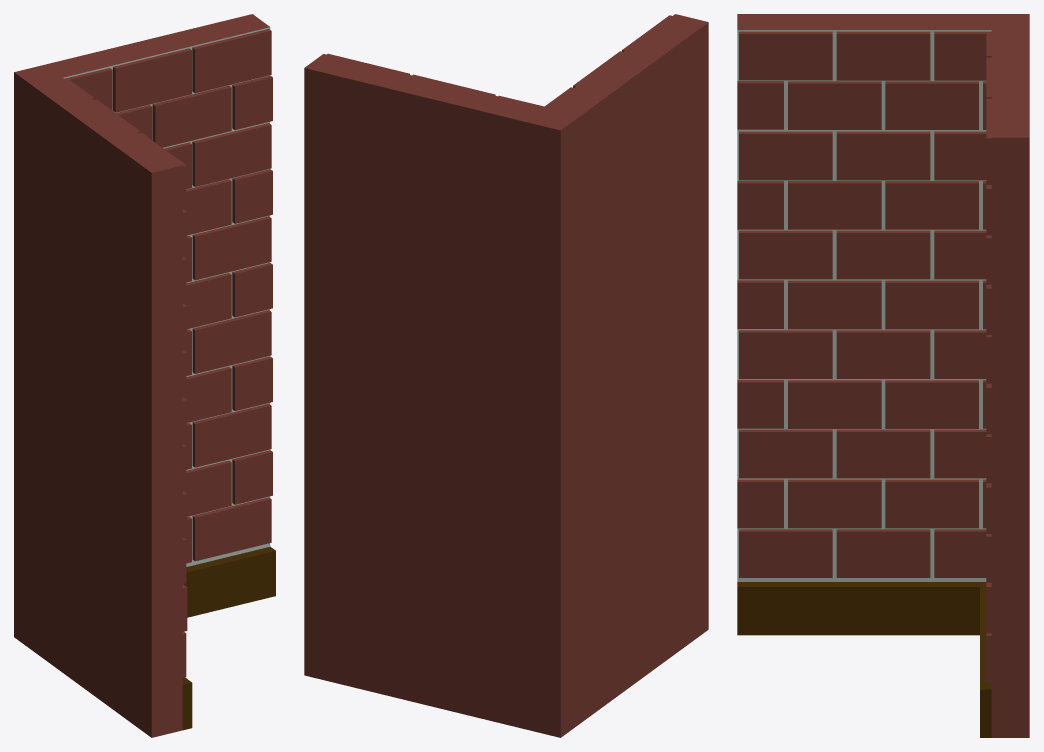
File: R_Wall_Corner.fbx
3 views of the same model, side by side, from view 1: azimuth 30°, elevation 25°; view 2: azimuth 150°, elevation 25°; view 3: azimuth 270°, elevation 25° (orthographic). The views are drawn at different scales.
Visible parts, largest first — view 1: R_Wall_Corner; view 2: R_Wall_Corner; view 3: R_Wall_Corner.
Boxes of the visible parts, left/top/right/bottom form: R_Wall_Corner: left=14, top=14, right=275, bottom=737; R_Wall_Corner: left=304, top=14, right=708, bottom=737; R_Wall_Corner: left=737, top=14, right=1029, bottom=737.
Bounding box in the file's own units: 1000 × 1000 × 2264.
